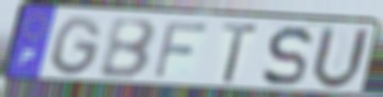B: (97, 18, 159, 82)
F: (151, 20, 212, 81)
G: (49, 15, 105, 79)
S: (259, 24, 315, 89)
T: (218, 21, 262, 86)
U: (308, 24, 373, 93)
